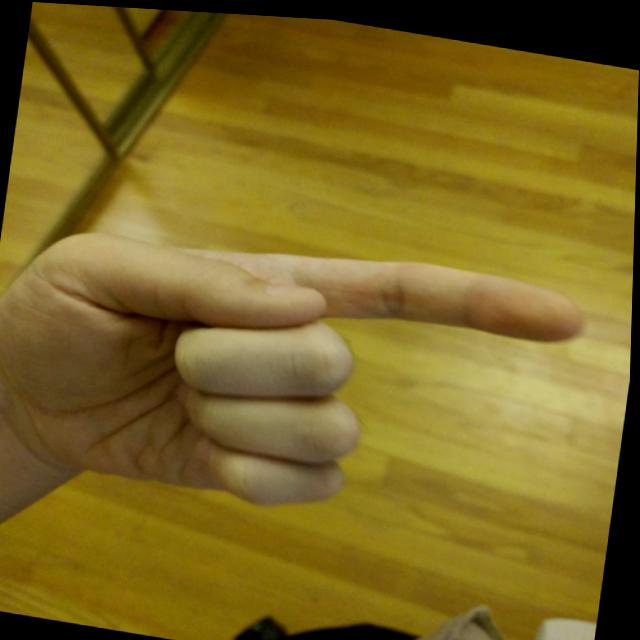G: (0, 186, 608, 559)
